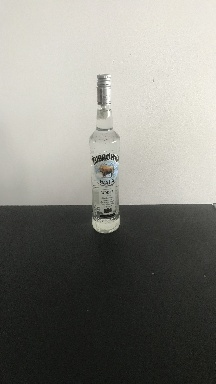butelka: (87, 70, 121, 235)
